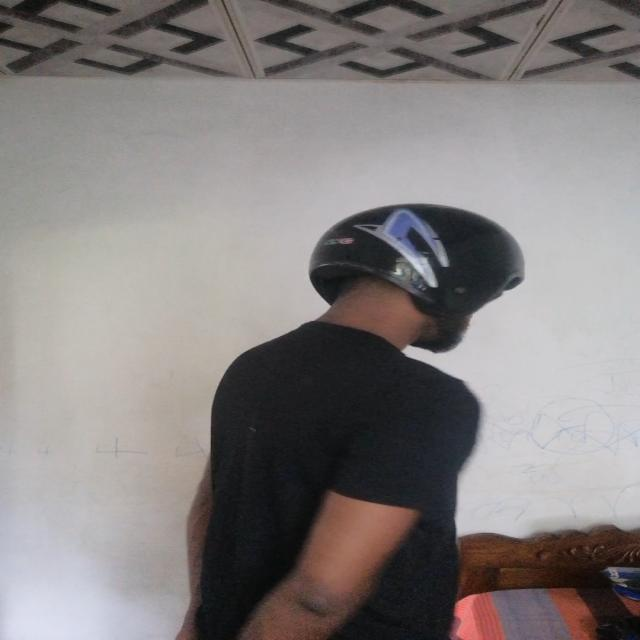Helmet_Wearer: (295, 198, 538, 379)
Person: (191, 196, 519, 640)
